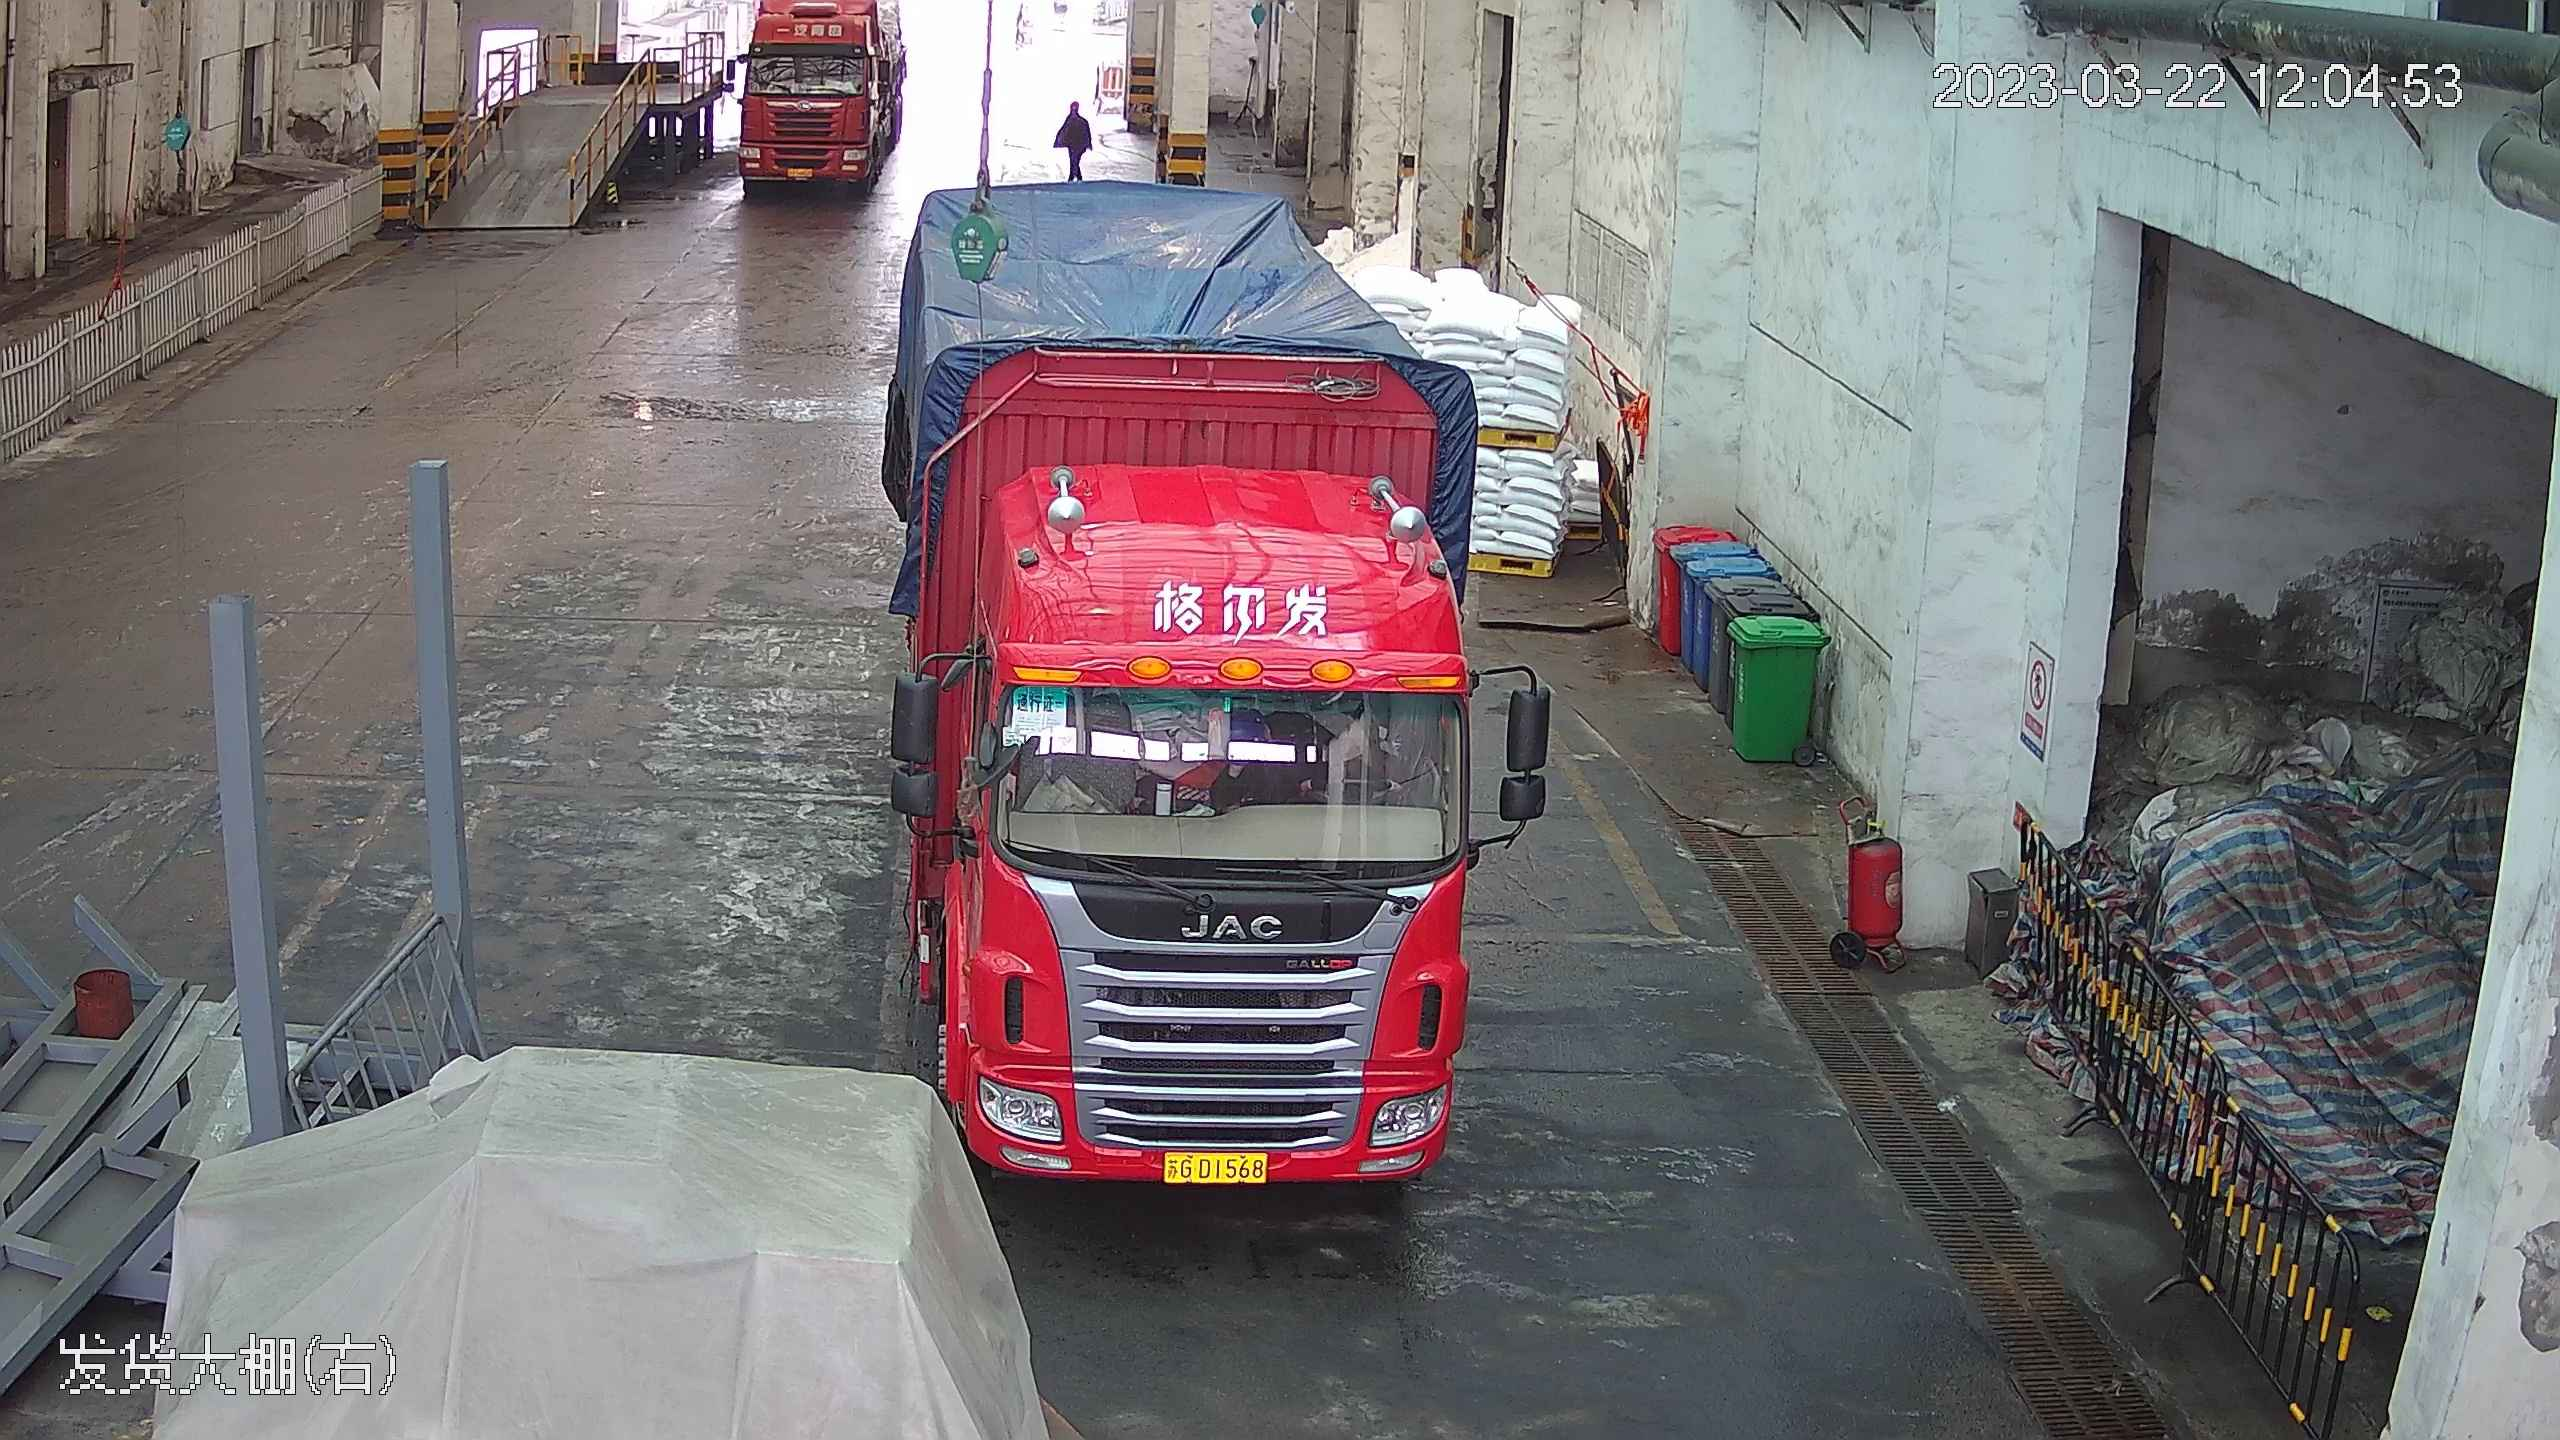head: (1059, 90, 1091, 132)
people: (1055, 87, 1097, 178)
truck: (858, 122, 1537, 1219), (722, 1, 906, 193)
